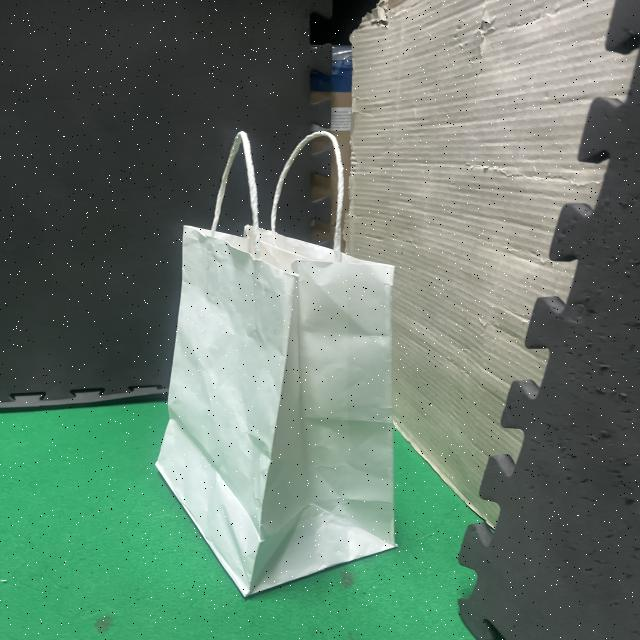paper bag: (144, 119, 416, 612)
